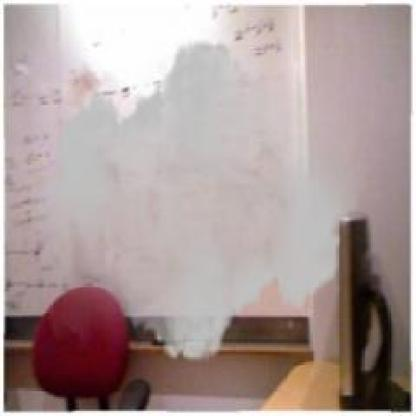Smoke: (29, 25, 366, 375)
